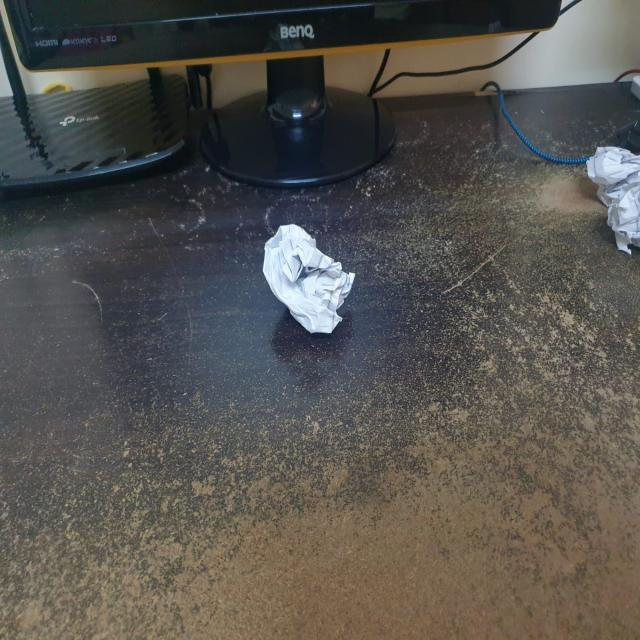Paper: (267, 223, 357, 332)
